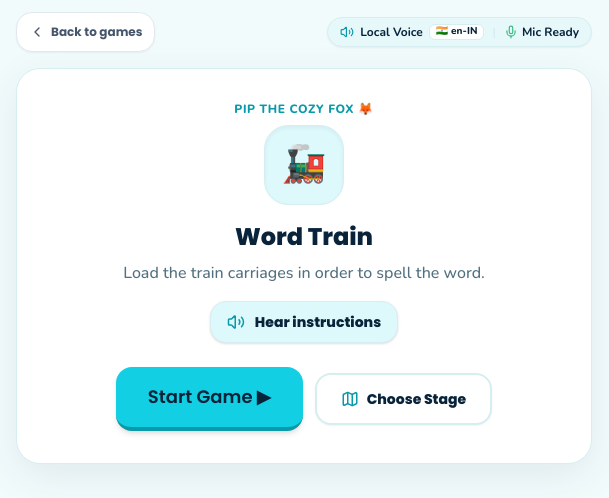
Scenario: Word Train Game Suite (/child/games/word-train) › 9. disables only the selected letter tile, leaving remaining tiles enabled
This screenshot has width=609, height=498.
Click the button "Start Game ▶".
click(209, 399)  # box [116,367,303,431]
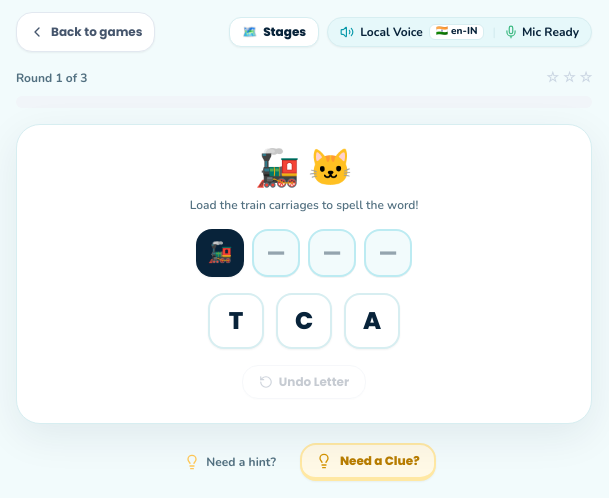
Expected: the button named "Carriage T" is enabled, [208,293,264,349]
Expected: the button named "Carriage A" is enabled, [344,293,400,349]
Note: Click carriage C
Click the button named "Carriage C".
click(304, 321)  # box [276,293,332,349]
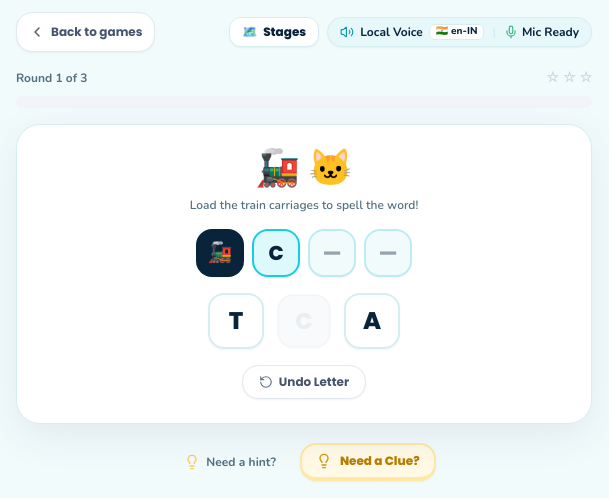
Expected: the button named "Carriage T" is enabled, [208,293,264,349]
Expected: the number of buttons "—" is 2, [308,229,356,277]; [364,229,412,277]
Expected: the button named "Slot 1: C" is shown, [252,229,300,277]
